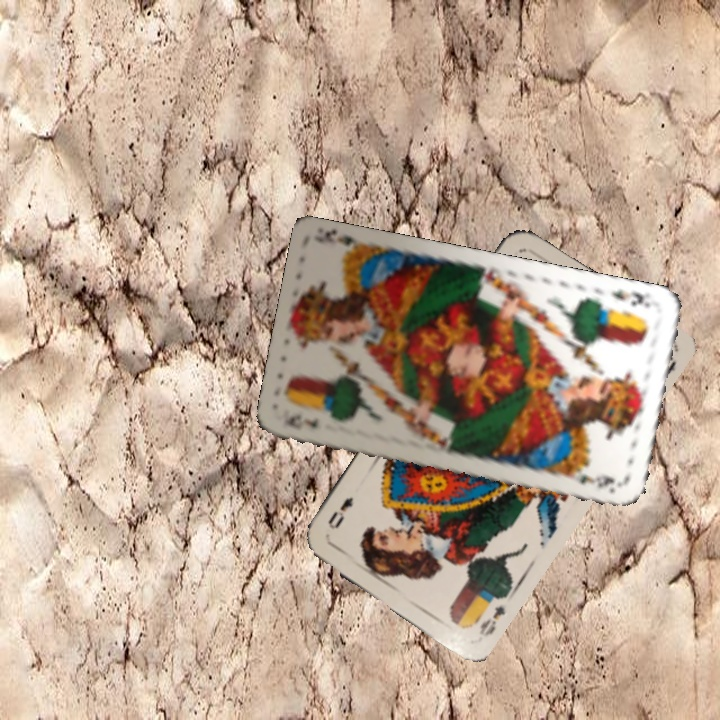EK: (606, 286, 653, 311), (280, 411, 320, 430)
EO: (475, 601, 508, 639)
